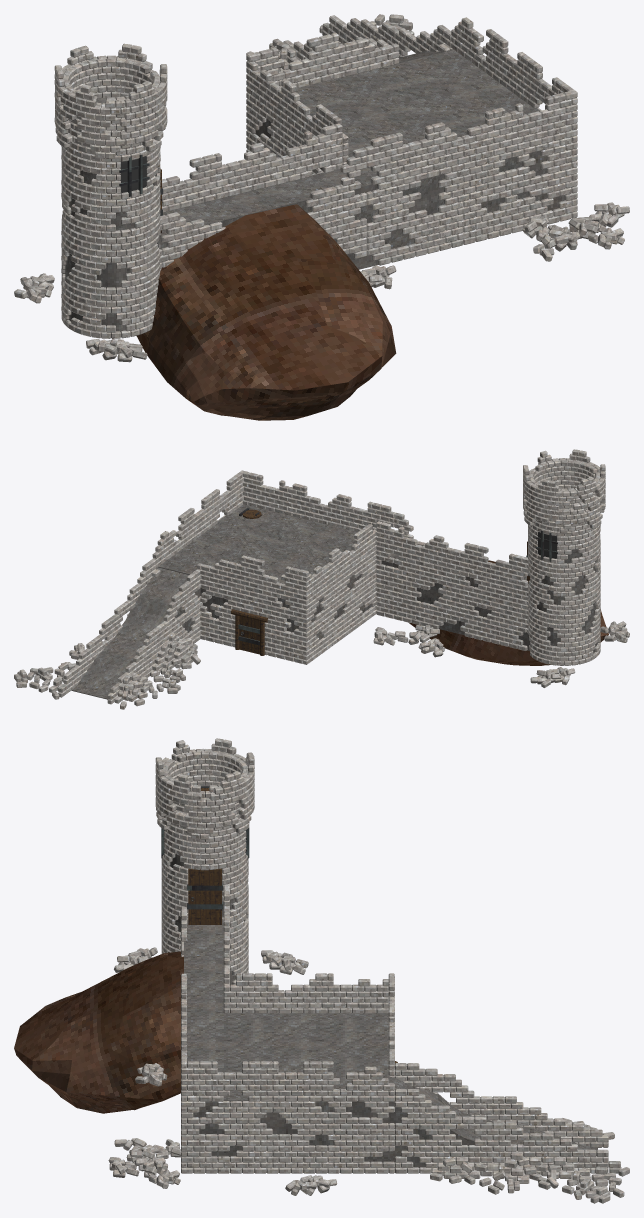
File: castle.fbx
3 renders of one model, top to bottom at view 1: azimuth 30°, elevation 25°; view 2: azimuth 150°, elevation 25°; view 3: azimuth 270°, elevation 25°, orthographic. The views are drawn at different scales.
Parts seen in each view (by area): view 1: castle_ruins; view 2: castle_ruins; view 3: castle_ruins.
Part boxes in pixels (x1,y1,x2,y2): castle_ruins: (14, 14, 629, 420); castle_ruins: (14, 449, 629, 709); castle_ruins: (14, 738, 629, 1203).
Size of the model in its own units: 4900 by 2668 by 5152.
